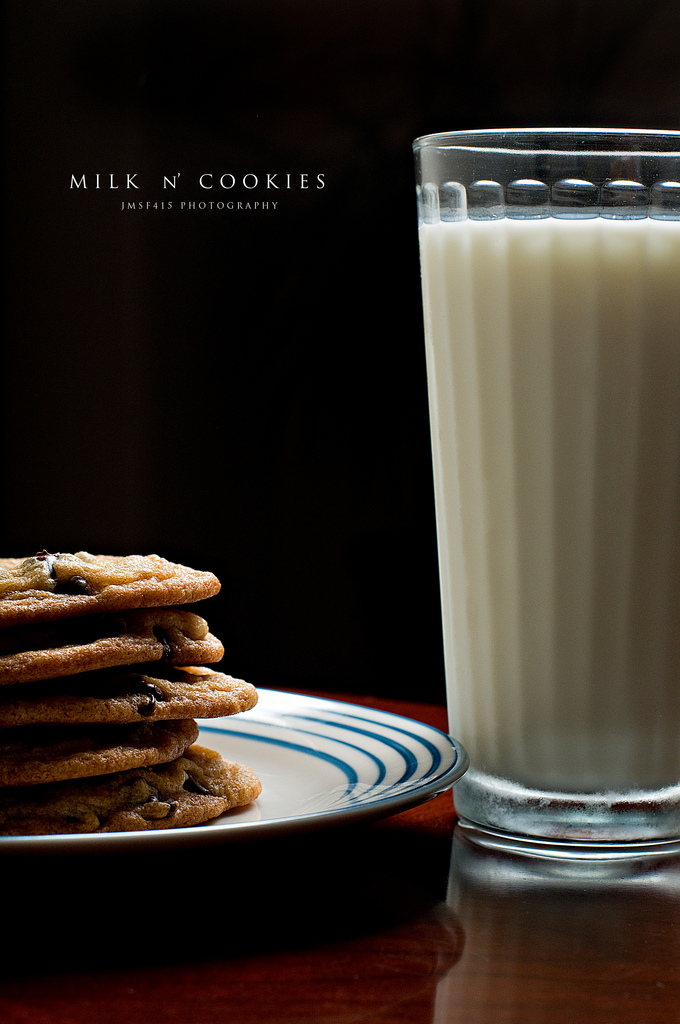glass of milk: (417, 121, 674, 877)
